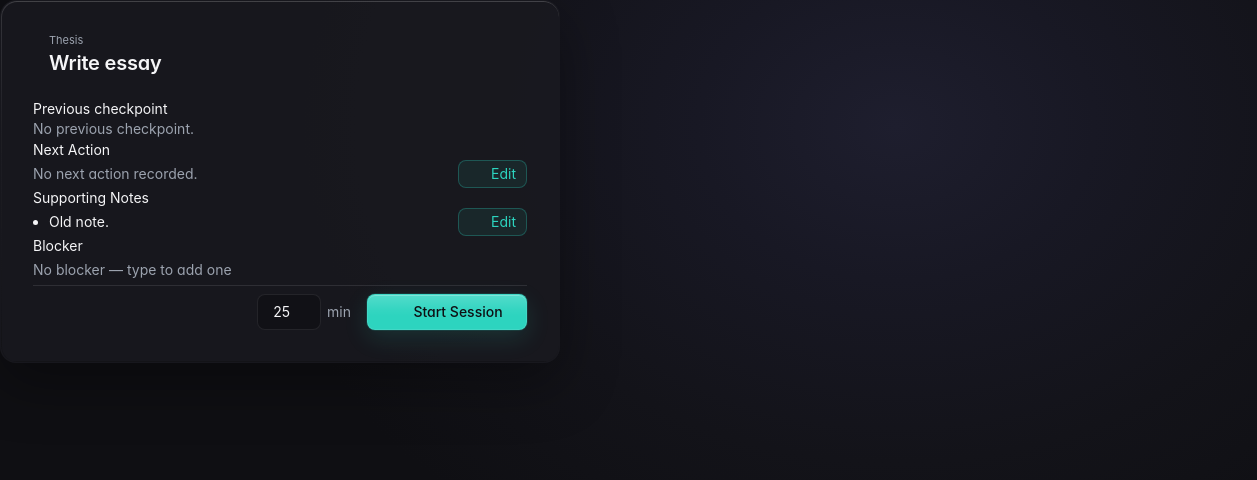
Test: ResumePacketView › Cancel notes restores original value and hides textarea
Step 1. Click the button "Edit" in the row of "Old note." → (492, 222), box [458,208,527,236]
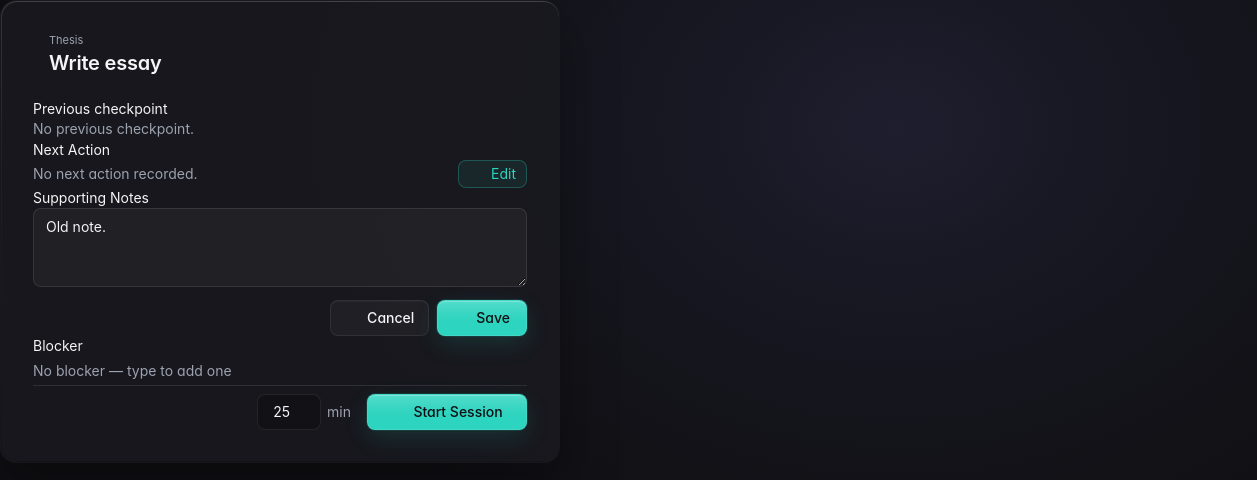
Step 2. Replace the text in the text box with "Changed but cancelled" → (280, 248), box [33,208,527,287]
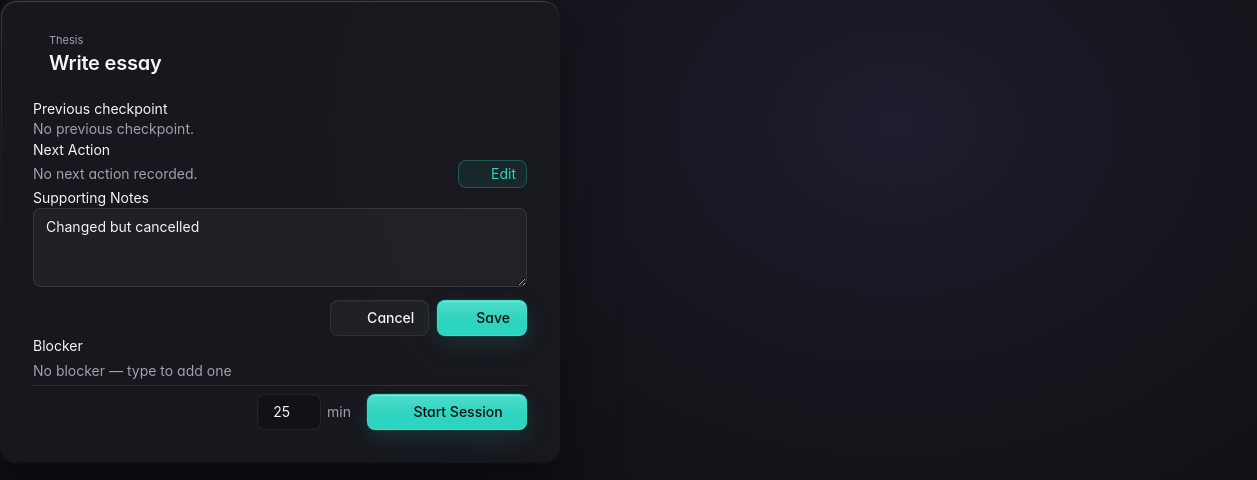
Step 3. Click the button "Cancel" → (380, 318), box [330,300,429,336]
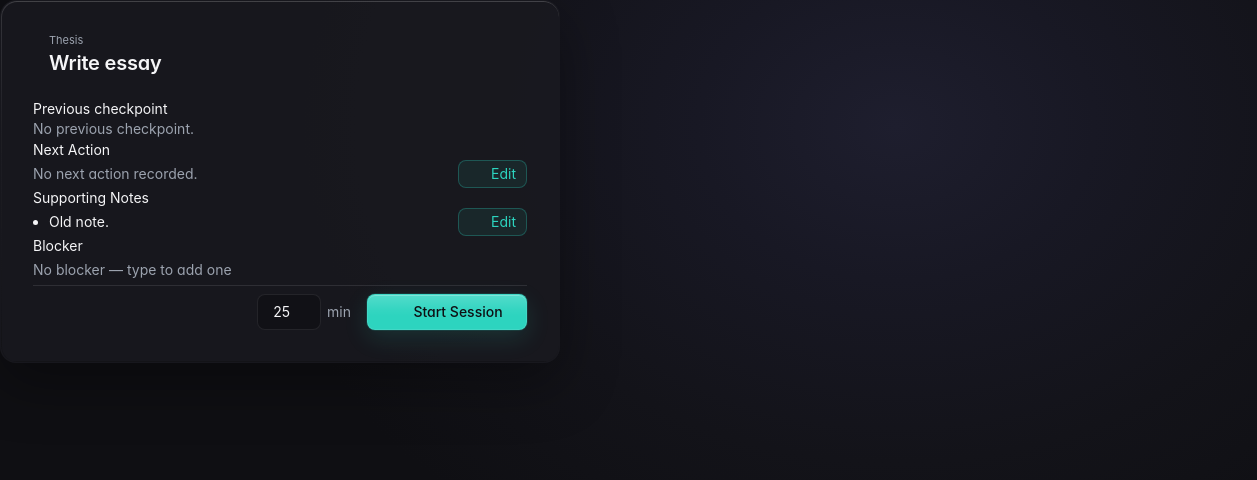
expect the text "Old note." is shown: met, box [49,213,109,230]
